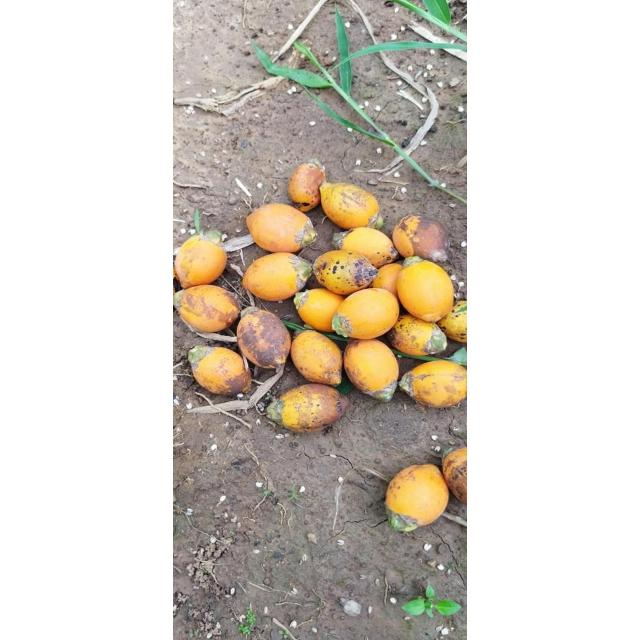good: (384, 464, 450, 530), (264, 384, 348, 432), (245, 203, 317, 253), (396, 259, 454, 321), (334, 288, 398, 340), (236, 308, 290, 369), (242, 253, 310, 301), (399, 360, 466, 408), (187, 346, 250, 396), (177, 285, 239, 333), (290, 329, 342, 385), (392, 214, 450, 262), (175, 235, 228, 287), (387, 313, 449, 357), (339, 228, 398, 268), (295, 288, 345, 332), (288, 160, 326, 210), (371, 262, 401, 296), (358, 379, 398, 403), (180, 234, 218, 256), (386, 509, 420, 533), (316, 250, 350, 270), (173, 259, 189, 301), (398, 368, 416, 398), (266, 398, 284, 426), (439, 443, 463, 462), (332, 228, 354, 248), (201, 230, 223, 244), (368, 214, 384, 230), (292, 328, 308, 338), (174, 265, 178, 283), (174, 276, 178, 294)
